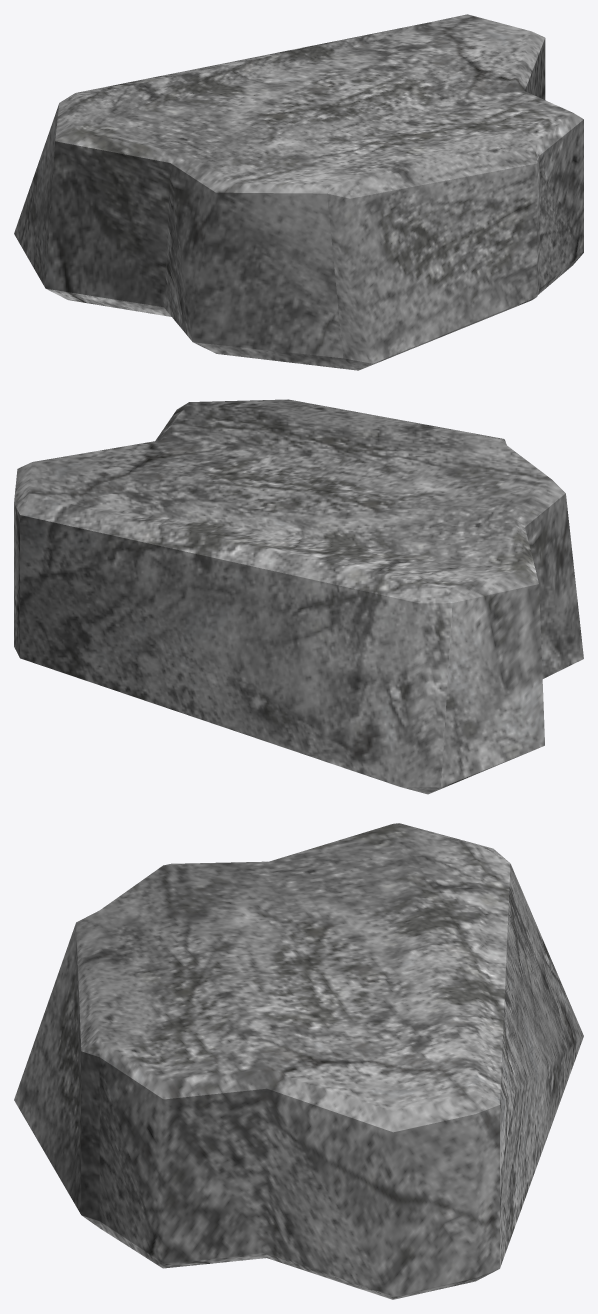
File: materials_3_rubble_2.fbx
The picture shows the model from 3 angles, top to bottom: view 1: azimuth 30°, elevation 25°; view 2: azimuth 150°, elevation 25°; view 3: azimuth 270°, elevation 25°; orthographic projection. The views are drawn at different scales.
Parts seen in each view (by area): view 1: materials_3_rubble_2; view 2: materials_3_rubble_2; view 3: materials_3_rubble_2.
Boxes of the visible parts, left/top/right/bottom form: materials_3_rubble_2: left=14, top=14, right=583, bottom=370; materials_3_rubble_2: left=14, top=399, right=583, bottom=794; materials_3_rubble_2: left=14, top=823, right=583, bottom=1299.
Bounding box in the file's own units: 45.81 × 14.77 × 37.14.
